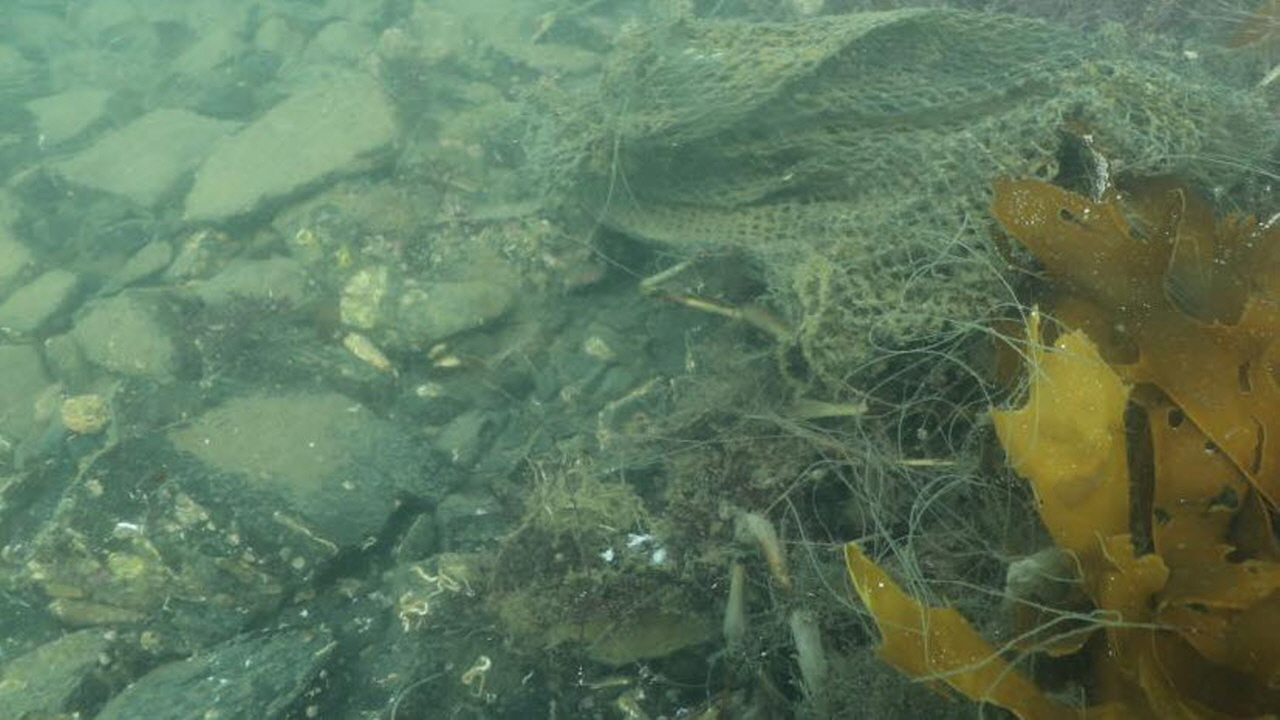fish net: (573, 0, 1280, 340)
